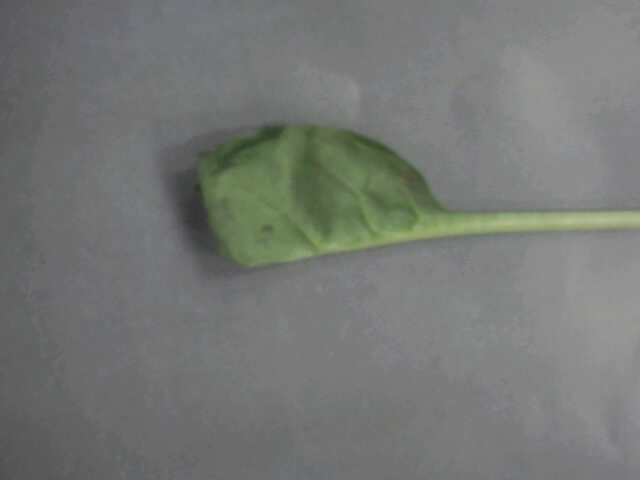yellow: (148, 100, 580, 314)
